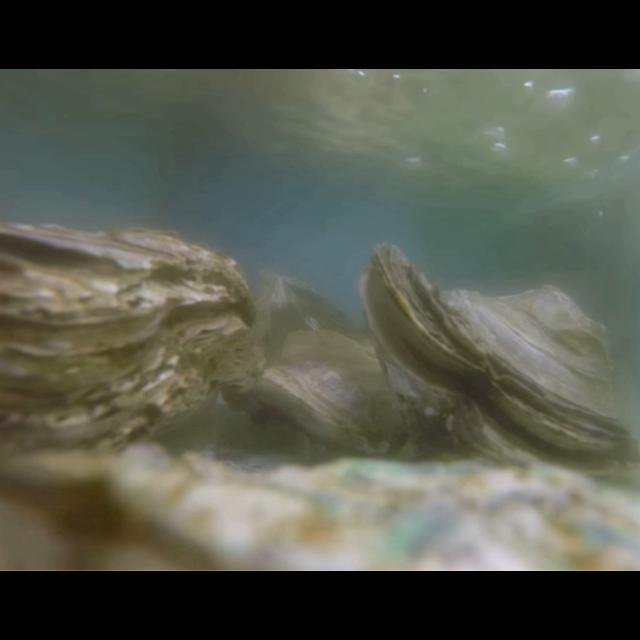Oyster-Closed: (0, 445, 640, 571), (0, 222, 256, 482), (258, 331, 418, 464), (266, 275, 370, 361)
Oyster-Open: (358, 243, 640, 489)
